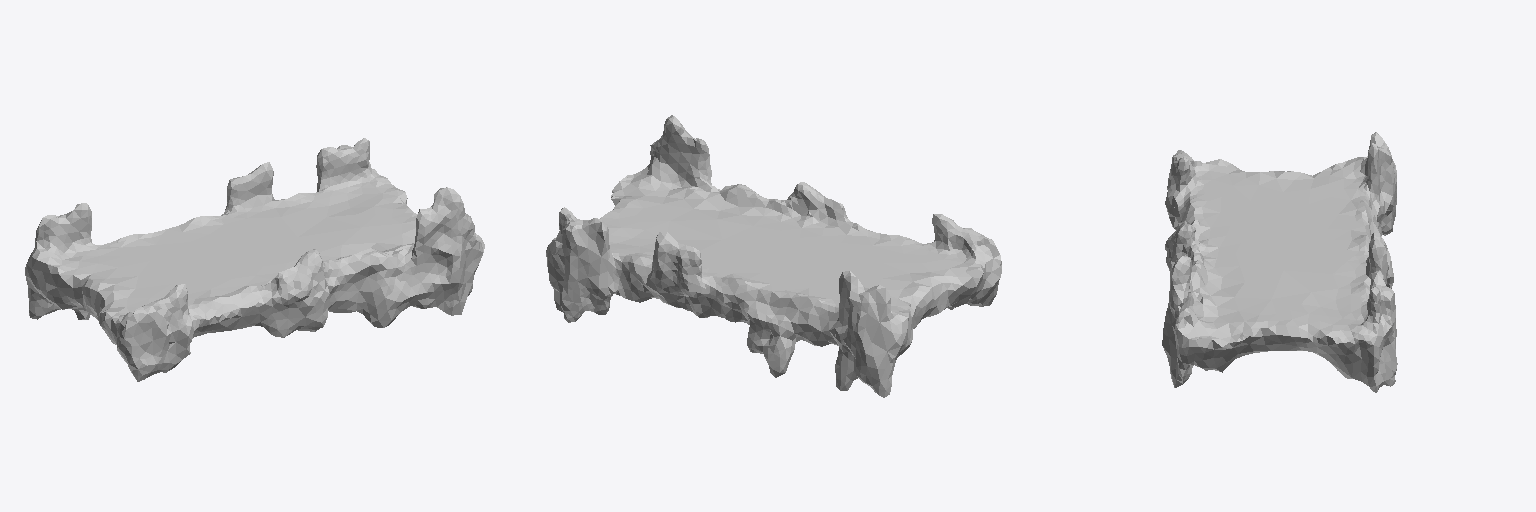
Rendered from plataforma_3.obj.
3 views of the same model, side by side, from view 1: azimuth 30°, elevation 25°; view 2: azimuth 150°, elevation 25°; view 3: azimuth 270°, elevation 25° (orthographic).
Parts seen in each view (by area): view 1: plataforma; view 2: plataforma; view 3: plataforma.
Boxes of the visible parts, box(x1,y1,x2,y2) form: plataforma: box(25, 138, 484, 381); plataforma: box(546, 115, 1001, 397); plataforma: box(1162, 132, 1397, 392).
Bounding box in the file's own units: 4.73 × 1.7 × 2.6.